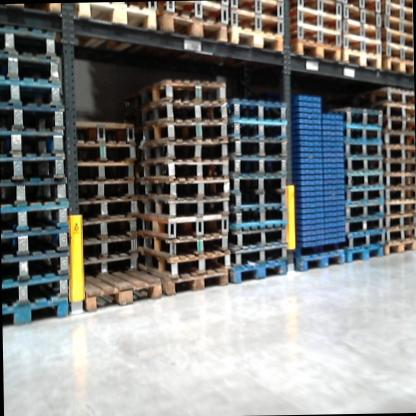pallet: (74, 264, 160, 320), (66, 5, 157, 49), (139, 73, 228, 112), (153, 10, 231, 54), (2, 251, 75, 287), (137, 135, 230, 163), (134, 213, 230, 240), (140, 252, 230, 280), (2, 274, 70, 311), (146, 267, 232, 296), (2, 177, 67, 215), (70, 209, 144, 242), (2, 294, 70, 329), (1, 201, 71, 235), (2, 226, 68, 262), (0, 74, 67, 109), (145, 181, 232, 206), (70, 174, 137, 206), (137, 195, 230, 218), (65, 138, 140, 166), (216, 24, 281, 56), (77, 252, 146, 282), (0, 128, 64, 160), (222, 241, 290, 271), (78, 233, 143, 264), (64, 117, 141, 143), (143, 119, 229, 142), (0, 21, 57, 55), (141, 231, 225, 254), (0, 51, 62, 82), (144, 105, 226, 128), (223, 221, 291, 248), (142, 159, 233, 179), (69, 194, 137, 220), (226, 95, 287, 123), (78, 156, 141, 183), (227, 118, 289, 145), (225, 256, 287, 283), (286, 6, 343, 35), (290, 37, 345, 67), (3, 156, 66, 182), (0, 102, 63, 128), (283, 19, 344, 45), (227, 167, 290, 192), (226, 205, 286, 231), (326, 103, 385, 129), (158, 1, 228, 21), (226, 10, 282, 35), (226, 185, 289, 206), (231, 152, 290, 174), (0, 4, 64, 24), (229, 133, 291, 153), (291, 249, 347, 271), (340, 197, 387, 223), (340, 211, 386, 235), (224, 0, 282, 19), (341, 122, 380, 148), (342, 4, 382, 29), (344, 15, 378, 43), (344, 134, 383, 158), (344, 51, 386, 73), (378, 54, 412, 80), (345, 183, 384, 205), (287, 0, 340, 16), (344, 170, 387, 189), (377, 126, 415, 147), (378, 197, 414, 219), (381, 41, 412, 66), (377, 27, 412, 49), (346, 244, 386, 263), (381, 111, 414, 133), (372, 86, 412, 104), (342, 154, 384, 171), (342, 228, 389, 243), (384, 232, 416, 254), (342, 39, 379, 58), (382, 15, 413, 35), (381, 4, 412, 23), (382, 140, 414, 158), (340, 0, 381, 14), (380, 98, 411, 116), (384, 186, 413, 205), (382, 173, 414, 190), (384, 158, 415, 174), (389, 222, 416, 240), (384, 208, 416, 222), (376, 0, 411, 11)
